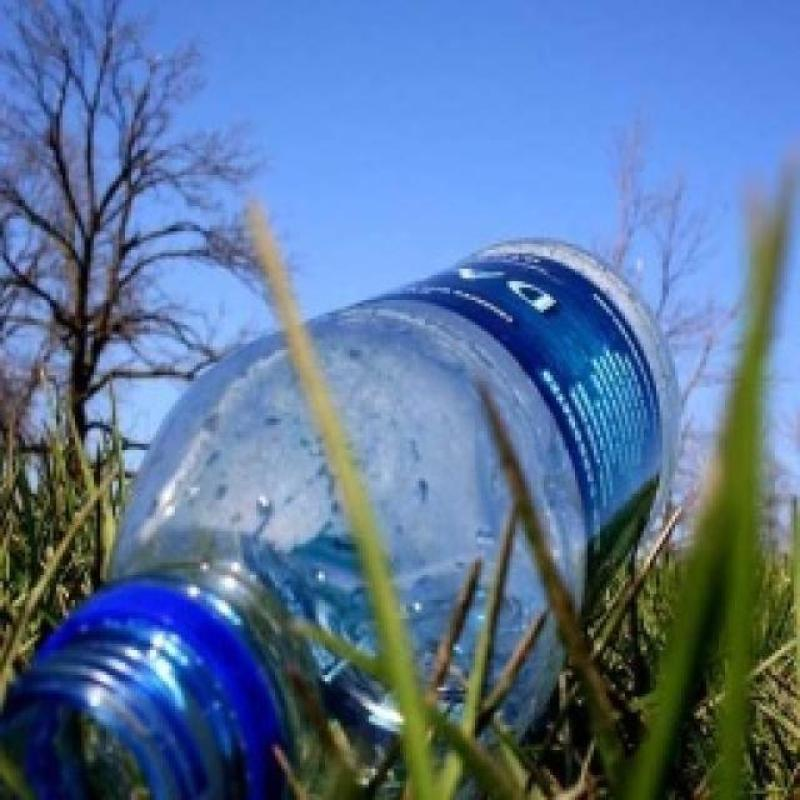botella: (18, 237, 672, 800)
